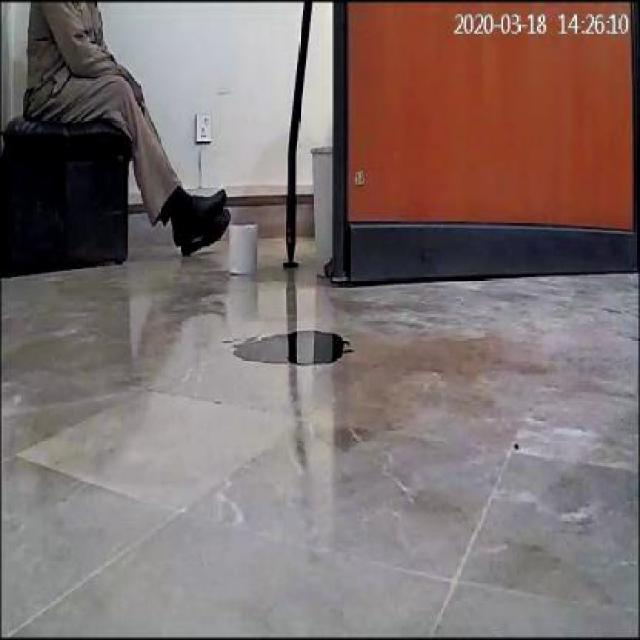spill: (230, 330, 352, 366)
